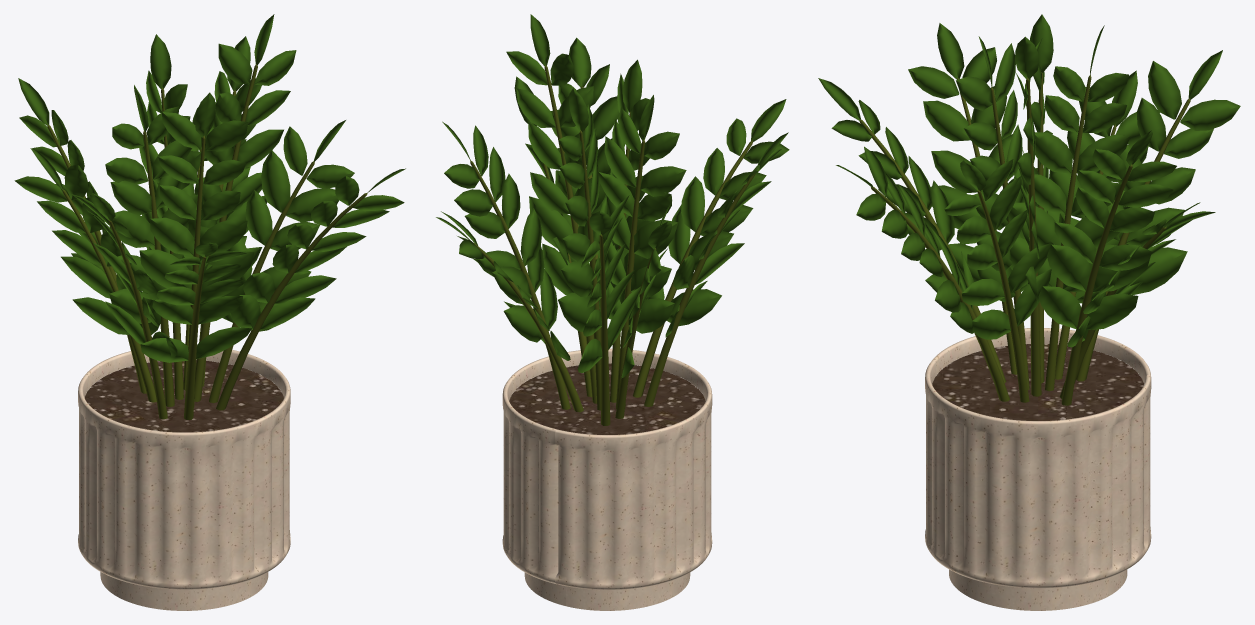
File: plant.glb
The picture shows the model from 3 angles, left to right: view 1: azimuth 30°, elevation 25°; view 2: azimuth 150°, elevation 25°; view 3: azimuth 270°, elevation 25°; orthographic projection. The views are drawn at different scales.
Visible parts, largest first — view 1: ZZPlant_0; view 2: ZZPlant_0; view 3: ZZPlant_0.
Part boxes in pixels (<box>): ZZPlant_0: <box>14,14,405,610</box>; ZZPlant_0: <box>436,14,789,610</box>; ZZPlant_0: <box>818,14,1240,610</box>.
Size of the model in its own units: 0.3126 by 0.5968 by 0.3942.
4 materials, 2 textured.
